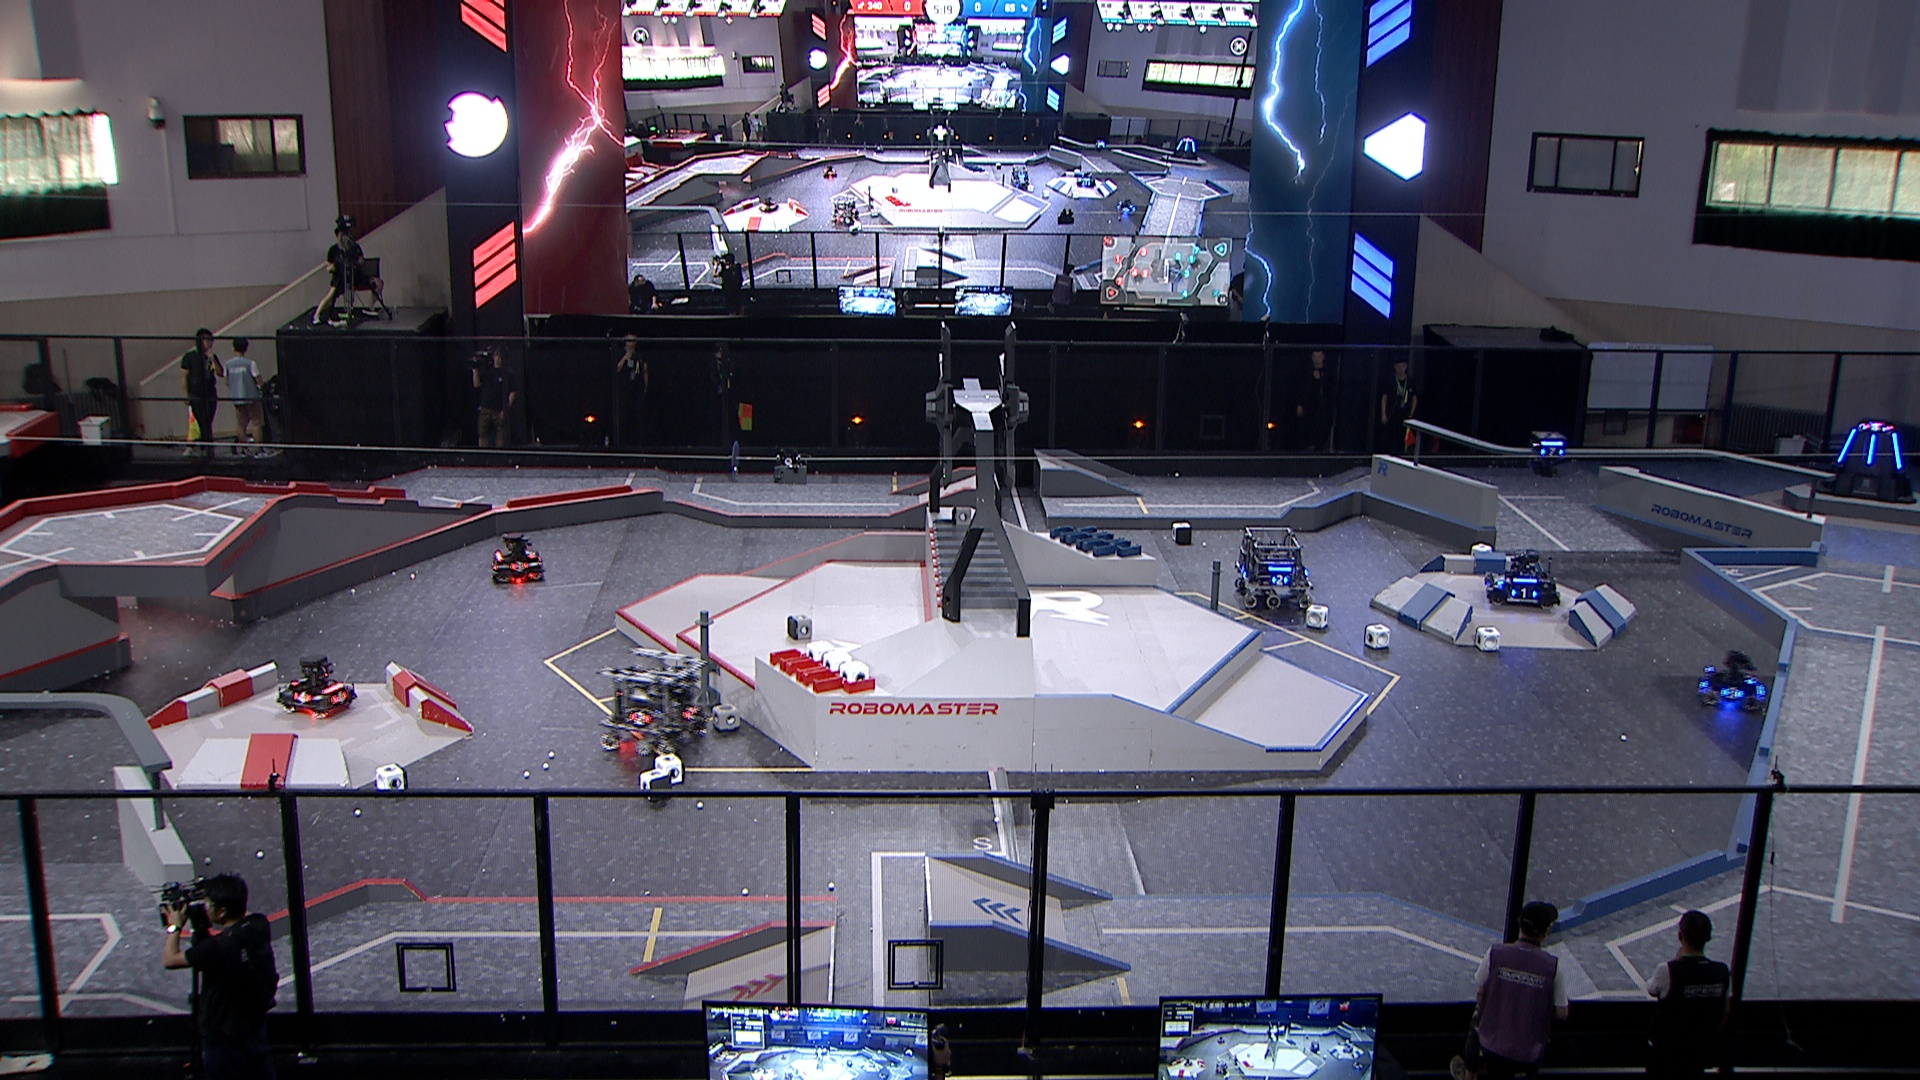armor: (1836, 427, 1858, 463), (1890, 431, 1904, 469), (1509, 585, 1538, 600), (626, 711, 651, 727), (1866, 433, 1878, 465), (291, 690, 314, 705), (1539, 444, 1565, 458), (1720, 684, 1743, 699), (680, 703, 702, 719), (328, 688, 347, 705), (509, 560, 529, 574), (1743, 674, 1760, 687), (1273, 574, 1290, 585), (524, 549, 537, 560), (1237, 566, 1247, 579)
base: (1815, 419, 1917, 505)
car: (599, 647, 712, 752), (1233, 524, 1315, 611), (272, 655, 357, 717), (1482, 550, 1564, 611), (1697, 647, 1768, 713), (491, 531, 549, 585)
ignore: (829, 194, 861, 225), (1172, 136, 1199, 162), (1007, 164, 1031, 191), (1114, 196, 1138, 216), (757, 195, 779, 215), (1077, 171, 1096, 190), (822, 164, 839, 179), (1863, 422, 1888, 433)
watcher: (1527, 429, 1567, 481)
